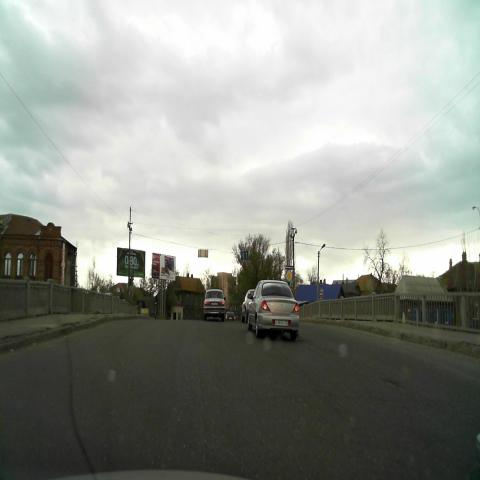5_15_2_2: (239, 249, 250, 260)
